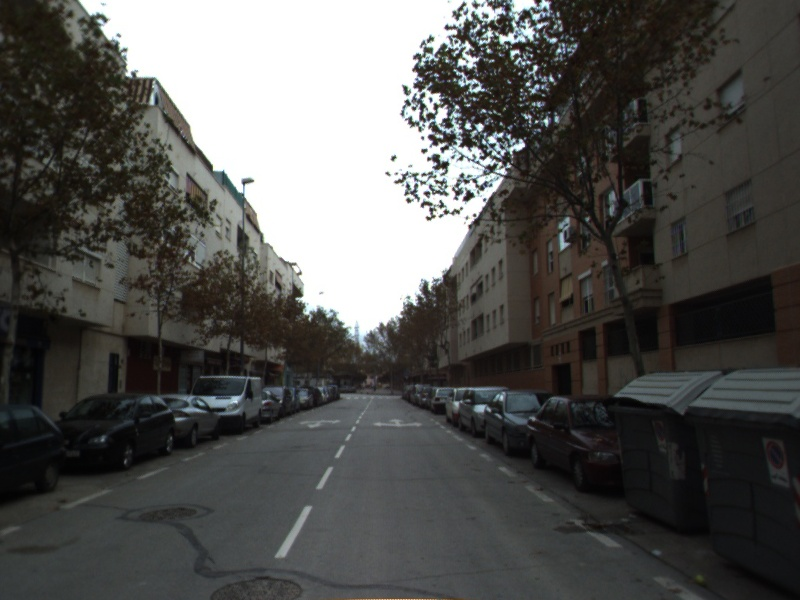STRAIGHT_LEFT_RIGHT: (371, 417, 425, 429)
